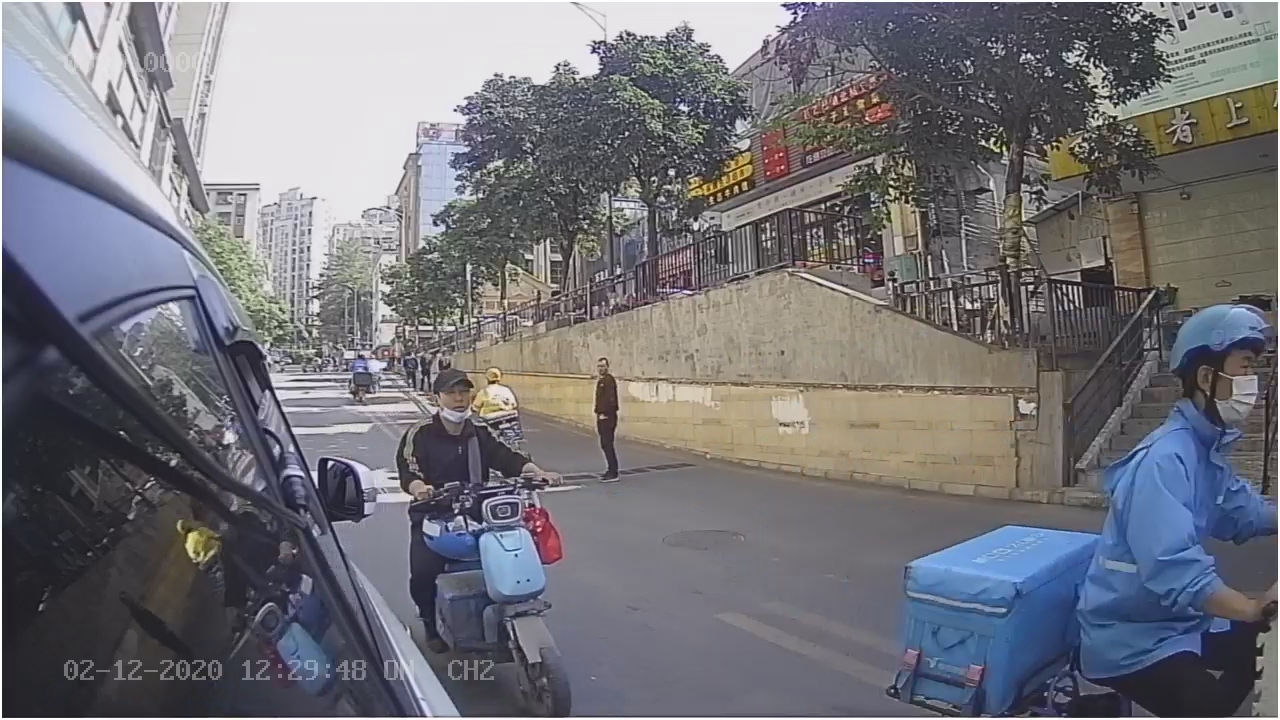person: (395, 359, 525, 497)
